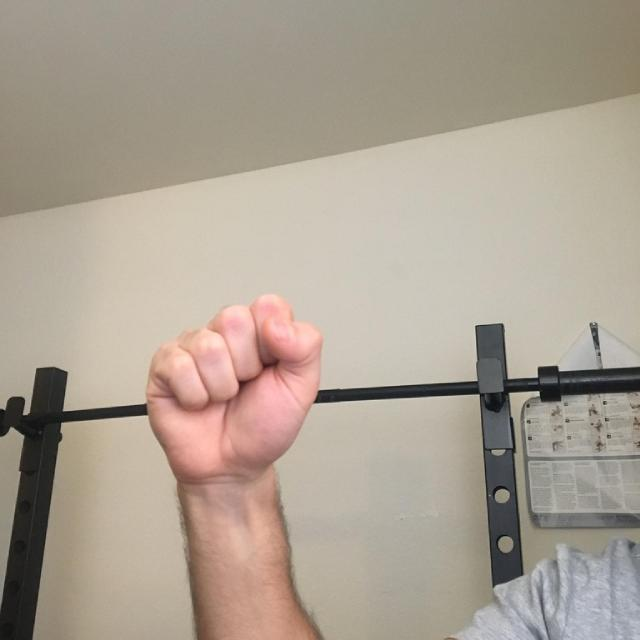E: (87, 270, 379, 559)
